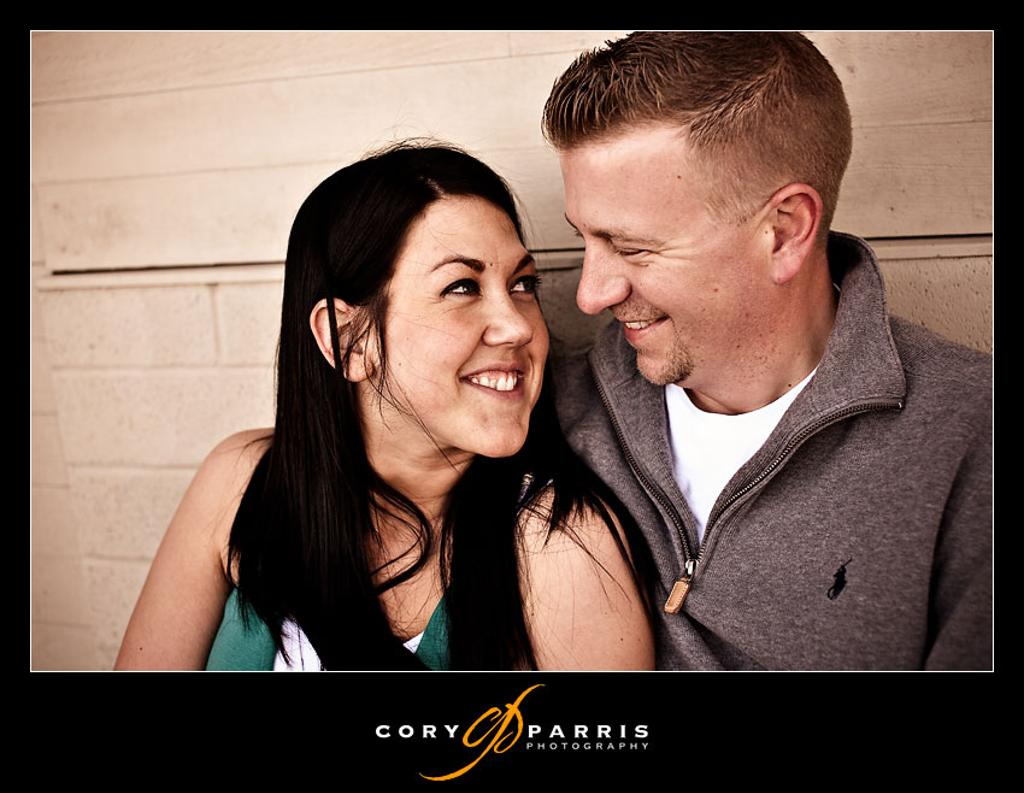face: (568, 110, 754, 378), (394, 190, 552, 460)
